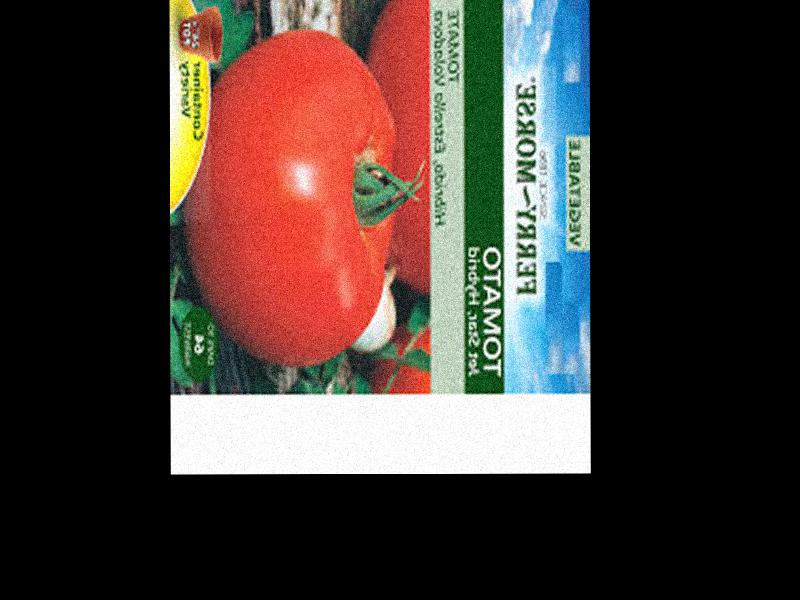Tomato: (184, 33, 395, 367)
